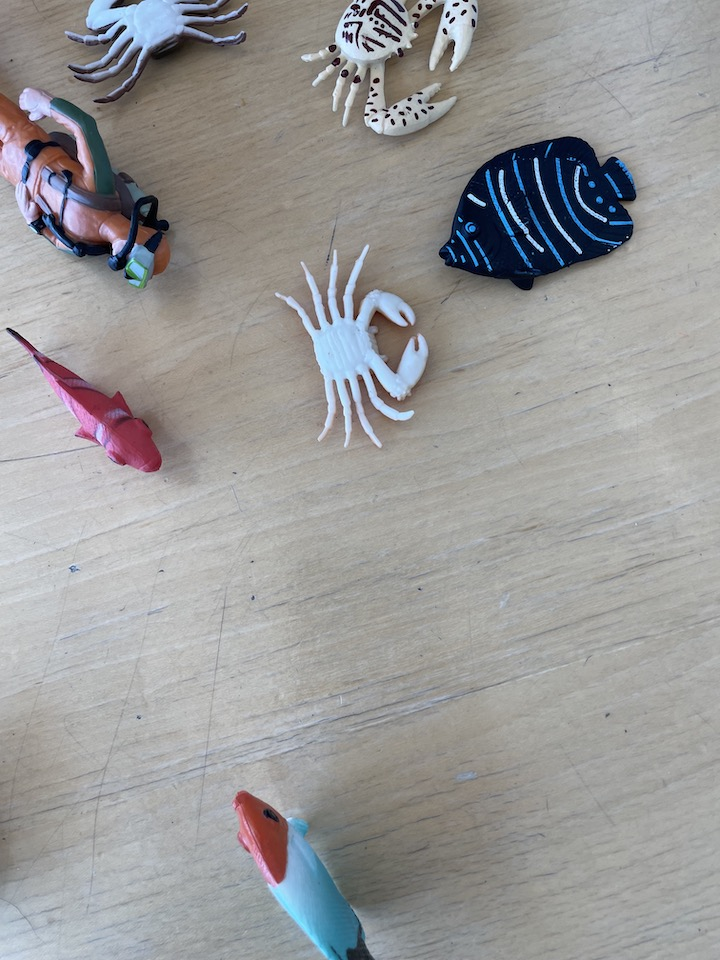crab: (275, 230, 429, 452), (300, 1, 484, 142), (62, 1, 258, 112)
diver: (1, 80, 178, 294)
fish: (437, 132, 641, 294), (231, 788, 379, 960), (5, 327, 165, 477)
